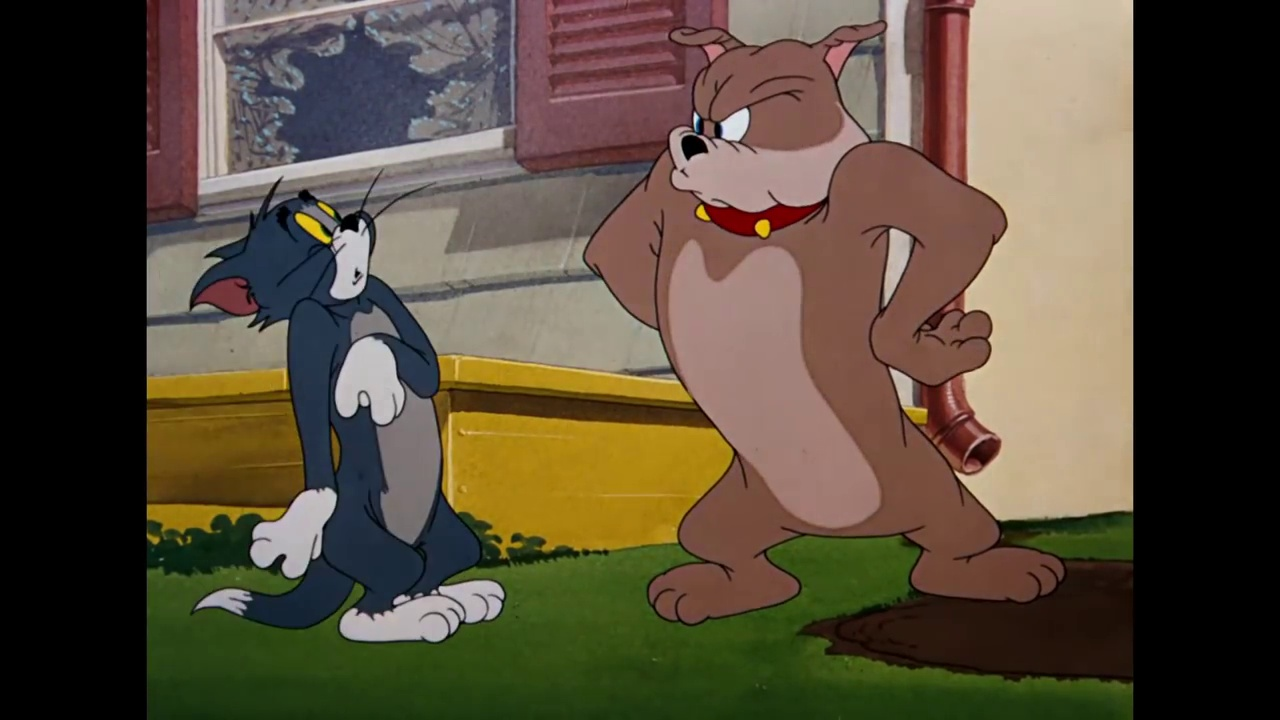spike: (661, 16, 895, 240)
tom: (191, 167, 408, 332)
